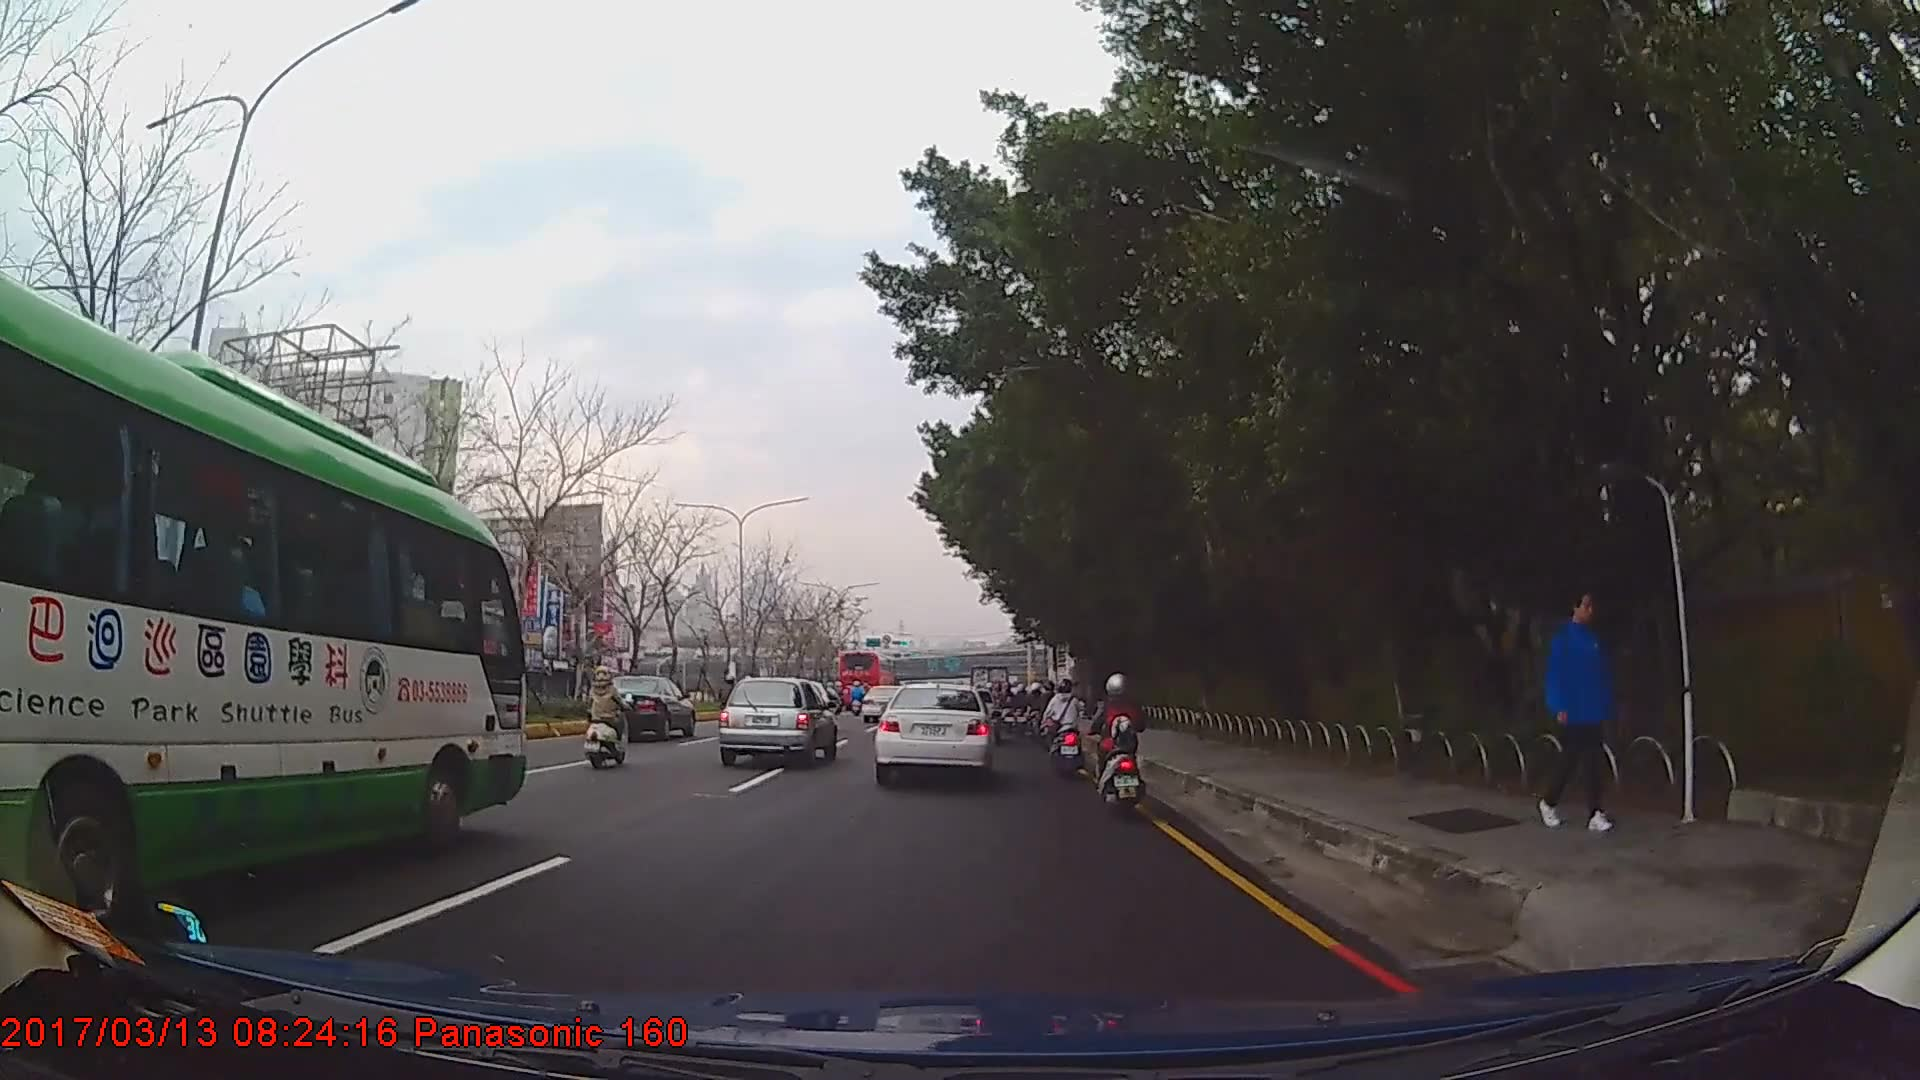pedestrian: (1542, 587, 1613, 829)
rider: (1094, 674, 1147, 821), (587, 667, 633, 771), (1043, 668, 1087, 772), (1038, 680, 1060, 753)
vehicle: (0, 263, 527, 954), (874, 677, 994, 780), (718, 671, 837, 762), (586, 673, 693, 740), (831, 644, 898, 704)
